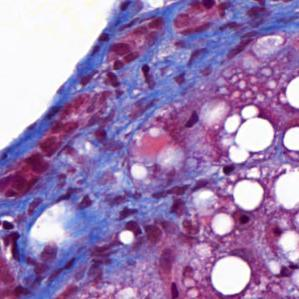inflammation: (0, 216, 25, 263), (178, 106, 206, 133), (212, 157, 242, 182), (230, 210, 256, 229)
